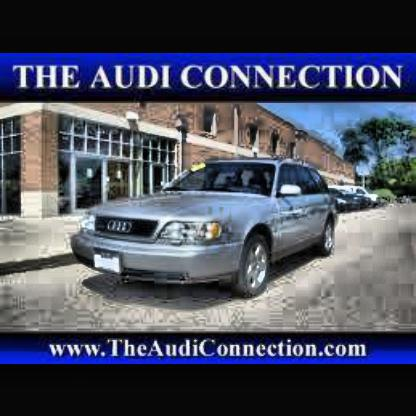Audi 100 Wagon 1994: (67, 150, 348, 307)
